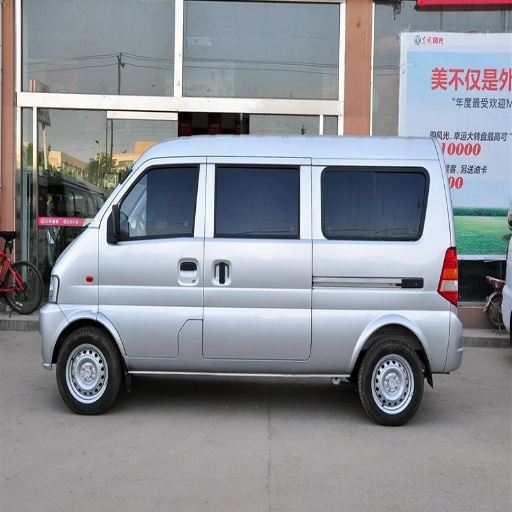back_left_door: (204, 159, 286, 309), (365, 171, 419, 231)
trunk: (213, 264, 450, 377)
